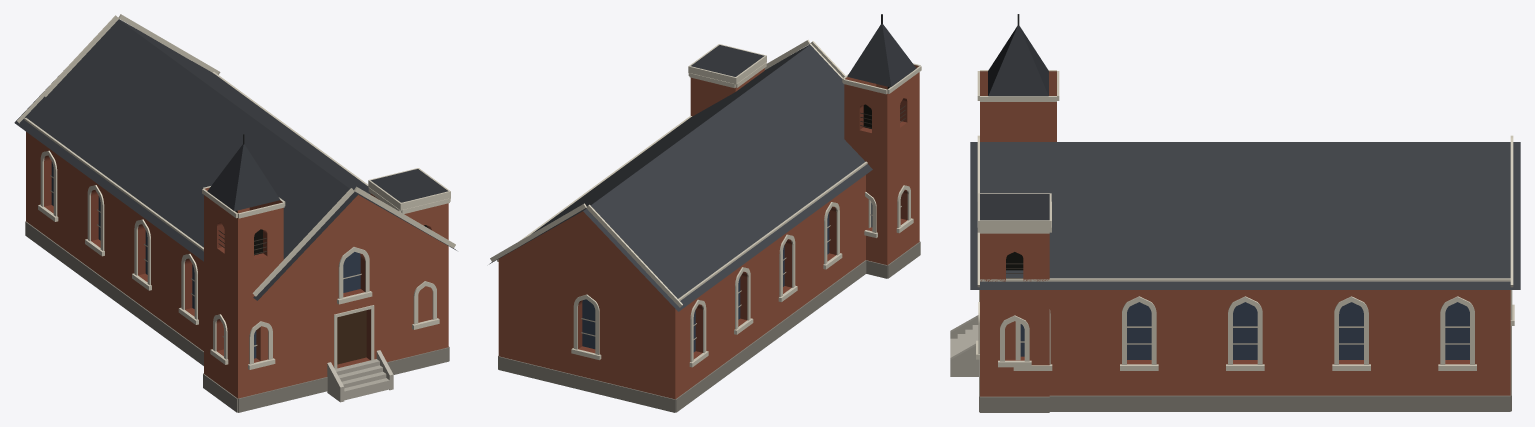
File: ch-coleman-chapel-1961.glb
3 views of the same model, side by side, from view 1: azimuth 30°, elevation 25°; view 2: azimuth 150°, elevation 25°; view 3: azimuth 270°, elevation 25° (orthographic). The views are drawn at different scales.
Parts seen in each view (by area): view 1: ch_brick, ch_roof, ch_trim, ch_base, ch_roof2, ch_brick2, ch_conc, ch_door, ch_stain; view 2: ch_brick, ch_roof, ch_trim, ch_base, ch_roof2, ch_brick2, ch_stain; view 3: ch_roof, ch_brick, ch_trim, ch_base, ch_stain, ch_roof2, ch_conc, ch_brick2.
Part boxes in pixels (box(x1,y1,x2,y2)): ch_brick: box(26, 132, 448, 398); ch_roof: box(14, 19, 456, 300); ch_trim: box(17, 14, 455, 369); ch_base: box(25, 221, 449, 412); ch_roof2: box(207, 144, 448, 210); ch_brick2: box(44, 155, 431, 368); ch_conc: box(327, 350, 393, 402); ch_door: box(337, 310, 366, 364); ch_stain: box(51, 161, 360, 358); ch_brick: box(498, 65, 919, 399); ch_roof: box(489, 44, 872, 311); ch_trim: box(490, 39, 921, 367); ch_base: box(498, 241, 920, 412); ch_roof2: box(691, 24, 916, 87); ch_brick2: box(578, 98, 907, 359); ch_stain: box(582, 203, 872, 352); ch_roof: box(970, 142, 1520, 289); ch_brick: box(980, 71, 1510, 396); ch_trim: box(976, 70, 1514, 370); ch_base: box(979, 326, 1511, 412); ch_stain: box(1020, 302, 1469, 359); ch_roof2: box(980, 26, 1049, 220); ch_conc: box(950, 315, 978, 376); ch_brick2: box(1005, 356, 1469, 364).
Size of the model in its own units: 11.6 by 13.2 by 23.
